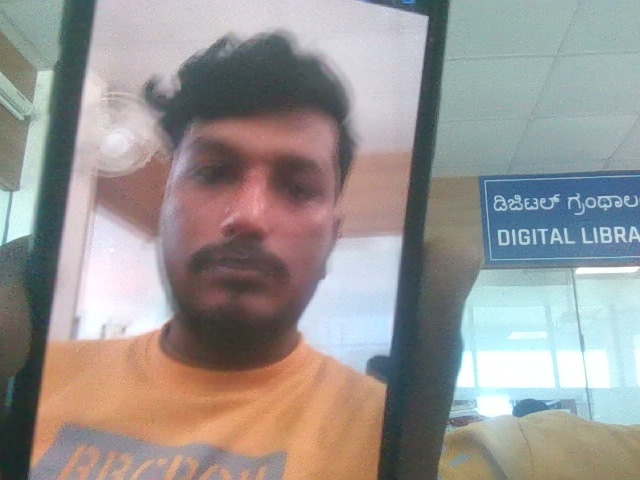fake: (128, 13, 370, 356)
